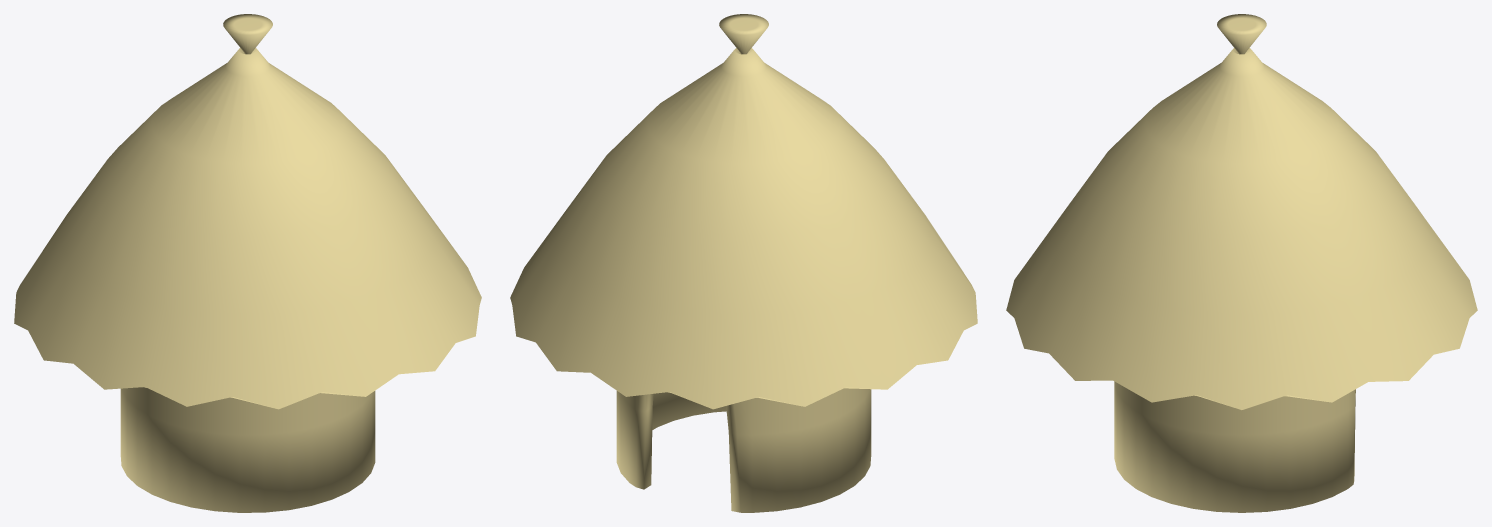
File: choza chaman.glb
3 renders of one model, left to right at view 1: azimuth 30°, elevation 25°; view 2: azimuth 150°, elevation 25°; view 3: azimuth 270°, elevation 25°, orthographic.
Parts seen in each view (by area): view 1: Cylinder; view 2: Cylinder; view 3: Cylinder.
Boxes of the visible parts, box(x1,y1,x2,y2) form: Cylinder: box(14, 14, 481, 512); Cylinder: box(510, 14, 977, 512); Cylinder: box(1006, 14, 1477, 512).
Size of the model in its own units: 12.26 by 12.47 by 12.26.
